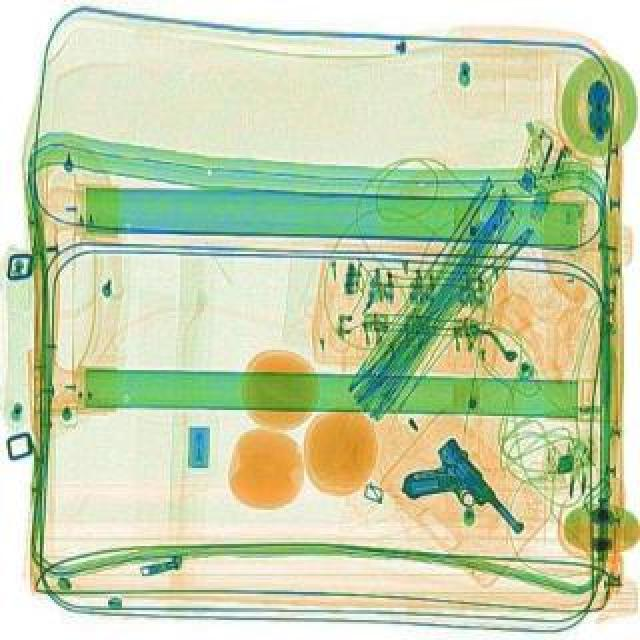gun: (392, 434, 528, 566)
